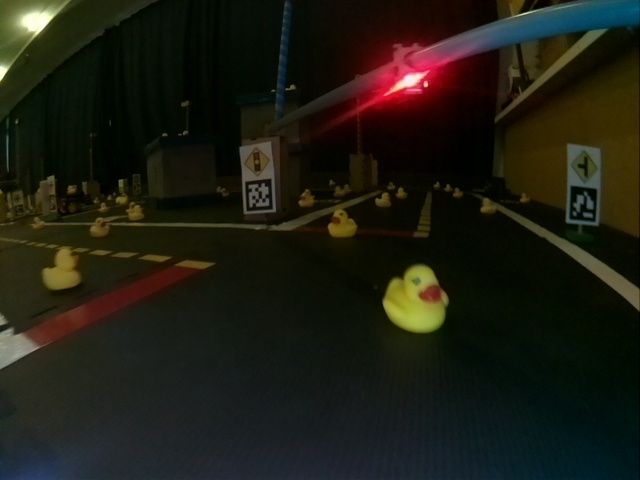Duckie: (383, 266, 447, 333), (43, 251, 81, 289), (330, 212, 357, 238), (92, 218, 109, 237), (129, 206, 145, 220), (377, 194, 392, 207), (300, 193, 313, 207), (482, 199, 495, 213), (520, 193, 529, 203), (445, 184, 454, 193), (434, 181, 443, 190), (454, 188, 462, 198), (398, 189, 406, 199), (334, 188, 343, 196)
Intersection sign: (569, 146, 599, 180)
QR code: (568, 186, 598, 224), (245, 179, 273, 213)
Signal sign: (239, 144, 273, 177)
Traffic light: (391, 43, 427, 94)
